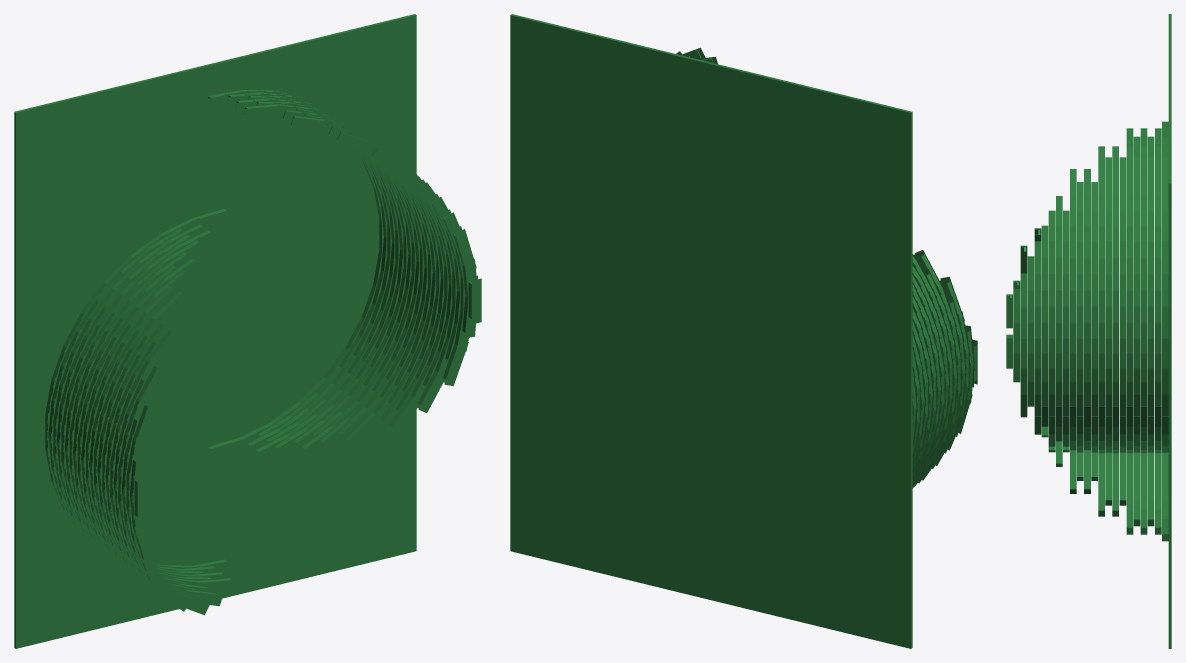
The model's file is curved_wall_mini_manor_v5.obj.
3 views of the same model, side by side, from view 1: azimuth 30°, elevation 25°; view 2: azimuth 150°, elevation 25°; view 3: azimuth 270°, elevation 25° (orthographic). The views are drawn at different scales.
Parts seen in each view (by area): view 1: PlanterBoxes; view 2: PlanterBoxes; view 3: PlanterBoxes.
Boxes of the visible parts, x1,y1,x2,y2 form: PlanterBoxes: (14, 14, 481, 648); PlanterBoxes: (510, 14, 977, 648); PlanterBoxes: (1006, 14, 1171, 648).
Bounding box in the file's own units: 10800 × 13800 × 4440.
